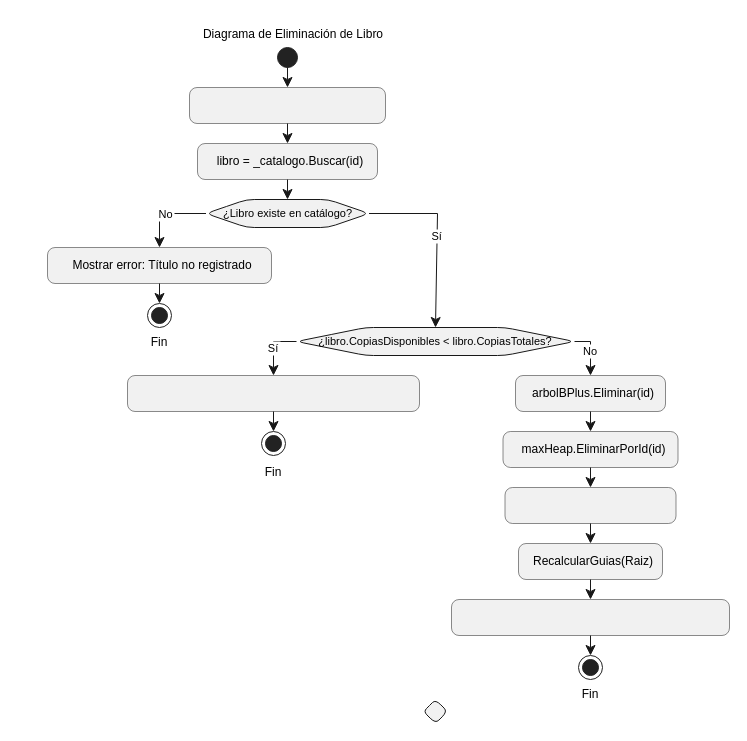
Some shapes in this 747 by 741 pixel diagram are drawn without their labels. Each missing label, with the centre of its shape:
"Denegar baja: Existen copias prestadas activas" belongs at point (273, 393).
"minHeap.EliminarPorId(id)" belongs at point (590, 505).
"Mostrar confirmación de eliminación exitosa" belongs at point (590, 617).
"Solicitar ID del libro a eliminar" belongs at point (287, 105).
